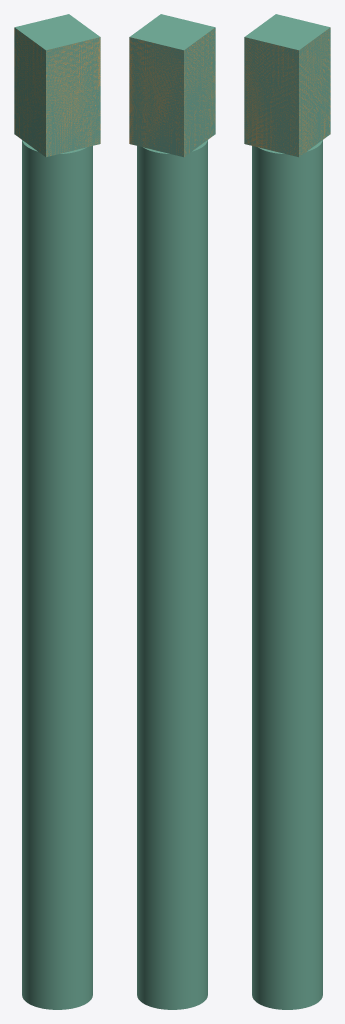
The model's file is step_02.glb.
3 views of the same model, side by side, from view 1: azimuth 30°, elevation 25°; view 2: azimuth 150°, elevation 25°; view 3: azimuth 330°, elevation 25° (orthographic).
Visible parts, largest first — view 1: part__paddle actuator, added__paddle actuator; view 2: part__paddle actuator, added__paddle actuator; view 3: part__paddle actuator, added__paddle actuator.
Boxes of the visible parts, box(x1,y1,x2,y2) form: part__paddle actuator: box(14, 14, 100, 1009); added__paddle actuator: box(14, 27, 100, 156); part__paddle actuator: box(129, 14, 215, 1009); added__paddle actuator: box(129, 29, 215, 156); part__paddle actuator: box(244, 14, 330, 1009); added__paddle actuator: box(244, 28, 330, 156).
Bounding box in the file's own units: 90 × 1350 × 90.
